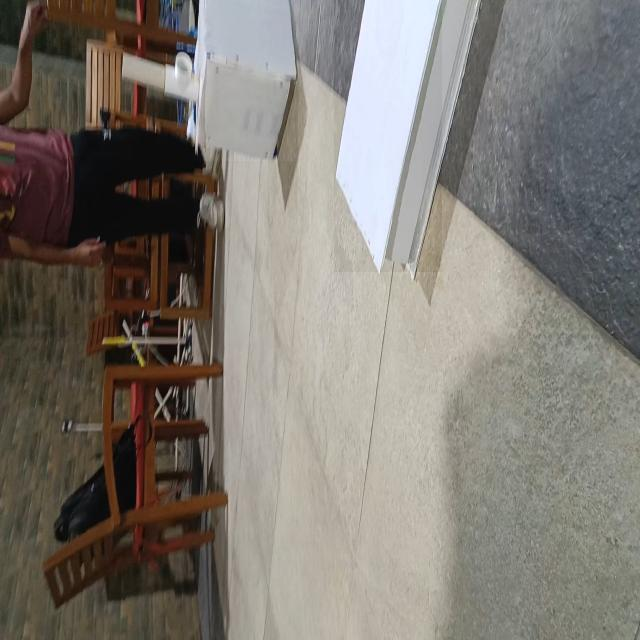Cube: (193, 0, 298, 161)
Cuboid: (334, 1, 442, 272)
